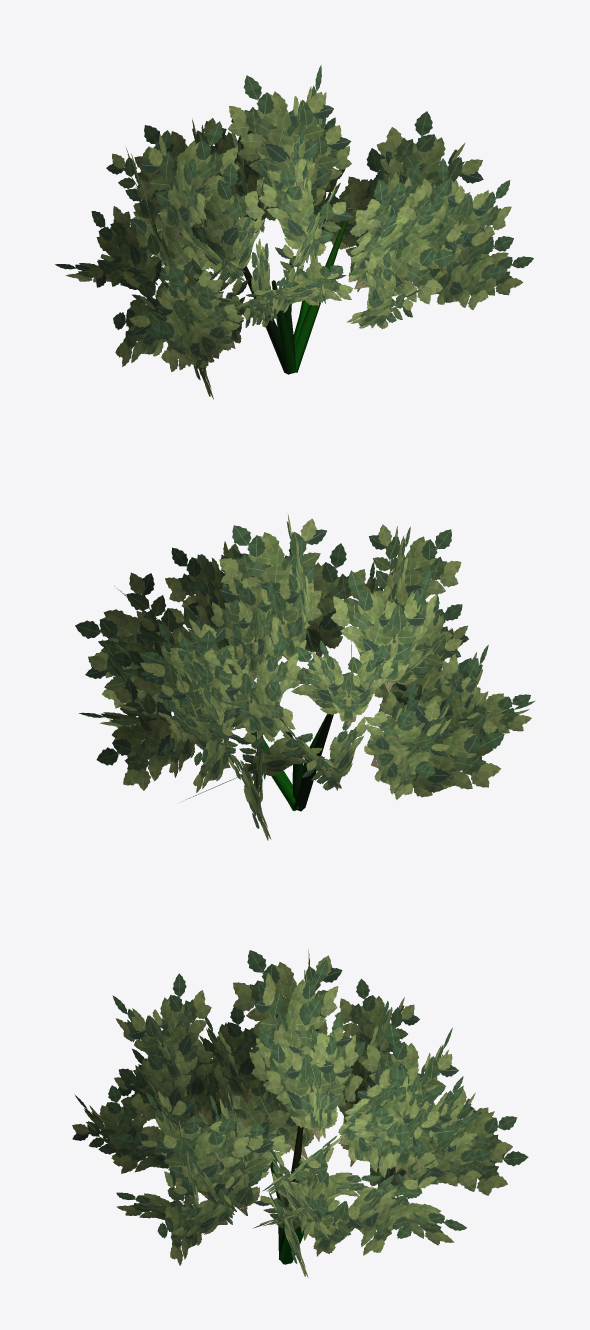
File: SM_Bush_Broadleaf_Round.fbx
3 views of the same model, one above another, from view 1: azimuth 30°, elevation 25°; view 2: azimuth 150°, elevation 25°; view 3: azimuth 270°, elevation 25° (orthographic).
Parts seen in each view (by area): view 1: SM_Bush_Broadleaf_Round_LOD0; view 2: SM_Bush_Broadleaf_Round_LOD0; view 3: SM_Bush_Broadleaf_Round_LOD0.
Boxes of the visible parts, <box> form: SM_Bush_Broadleaf_Round_LOD0: <box>55,65,533,399</box>; SM_Bush_Broadleaf_Round_LOD0: <box>75,513,535,840</box>; SM_Bush_Broadleaf_Round_LOD0: <box>72,949,528,1277</box>.
Size of what is drawn, in the model's own units: 2.68 by 1.79 by 2.69.
